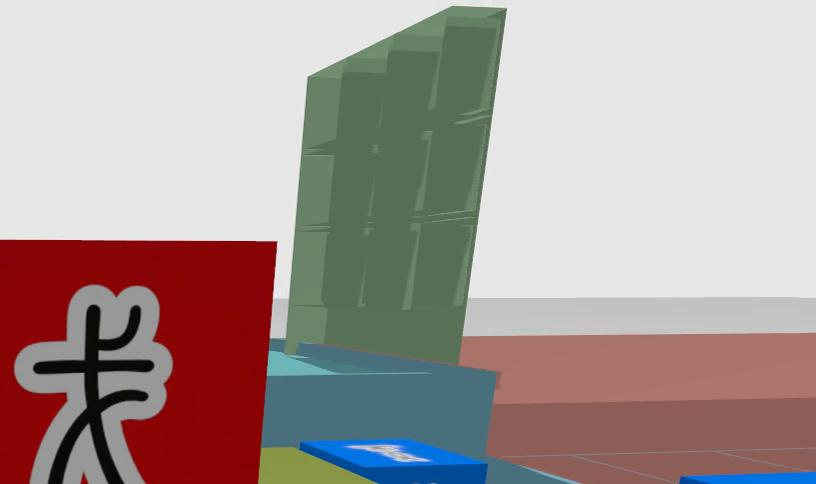KFS_FAKE: (0, 242, 275, 484), (15, 285, 172, 484)
KFS_REAL: (300, 438, 487, 484), (679, 472, 815, 484)
